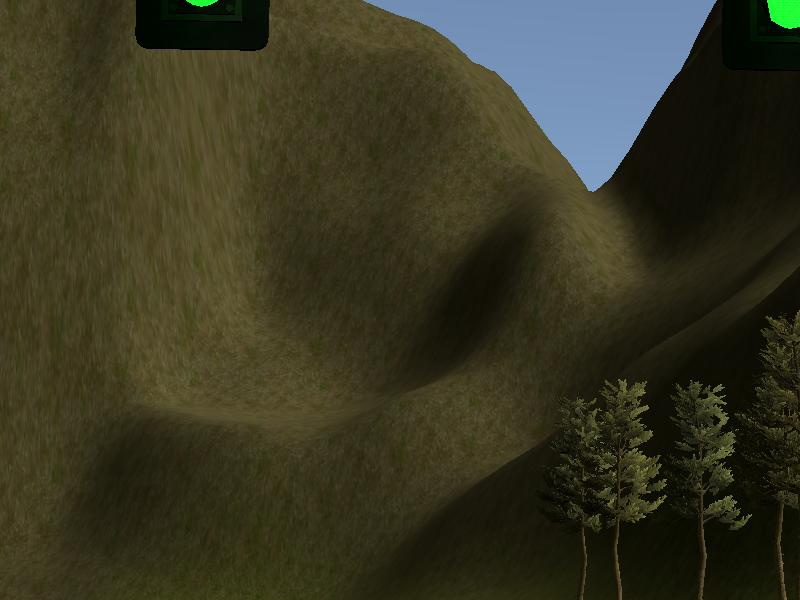Green: (131, 1, 273, 55), (718, 1, 800, 73)
